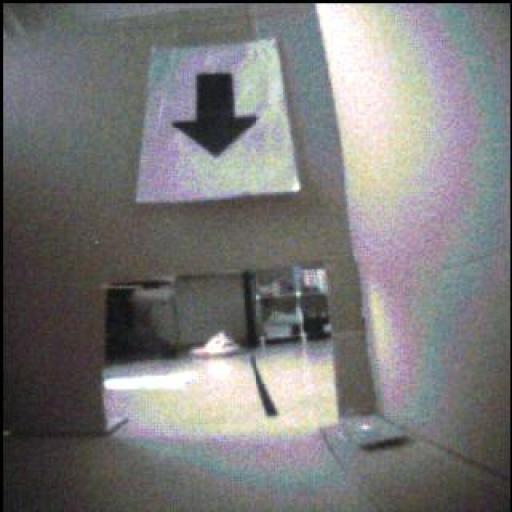arrow: (174, 75, 259, 158)
